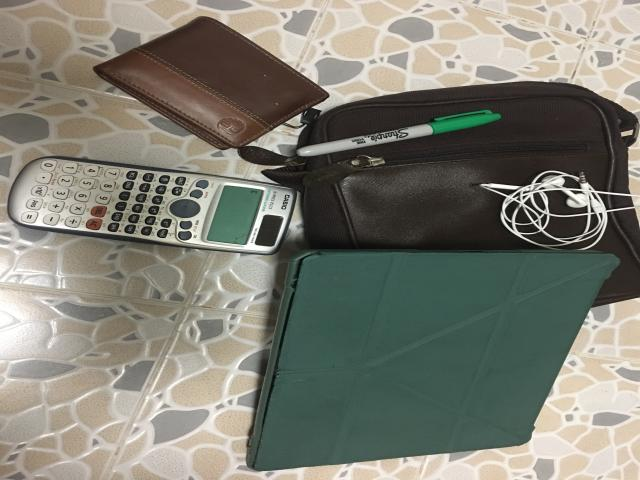Pen: (297, 110, 502, 157)
Wallet: (93, 17, 328, 149)
wire: (480, 171, 635, 249)
